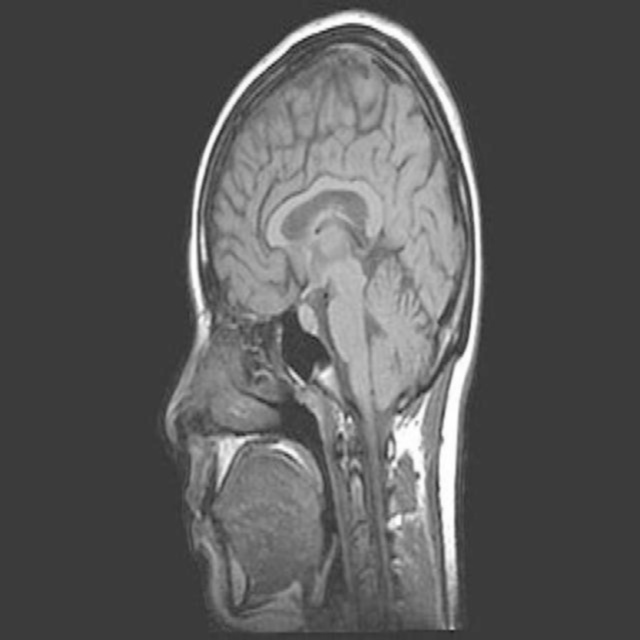glioma tumor: (233, 107, 427, 599)
